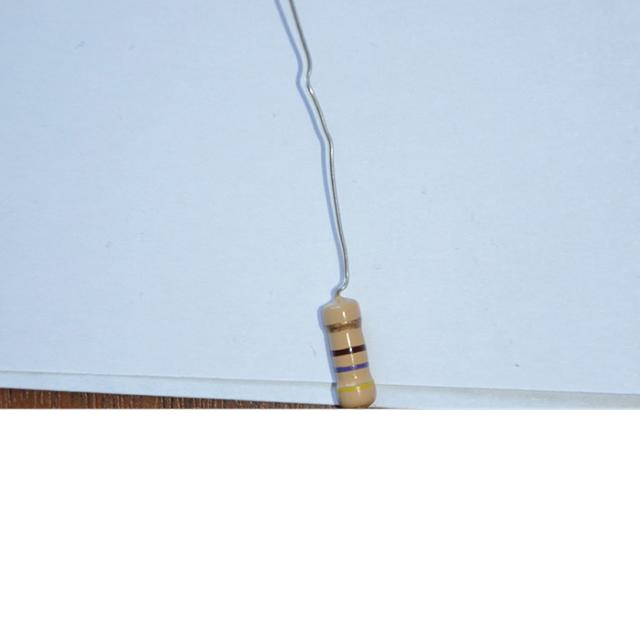brown: (332, 345, 365, 354)
gold: (326, 320, 359, 330)
resistor: (314, 287, 385, 412)
violet: (334, 363, 367, 372)
yellow: (337, 382, 372, 391)
